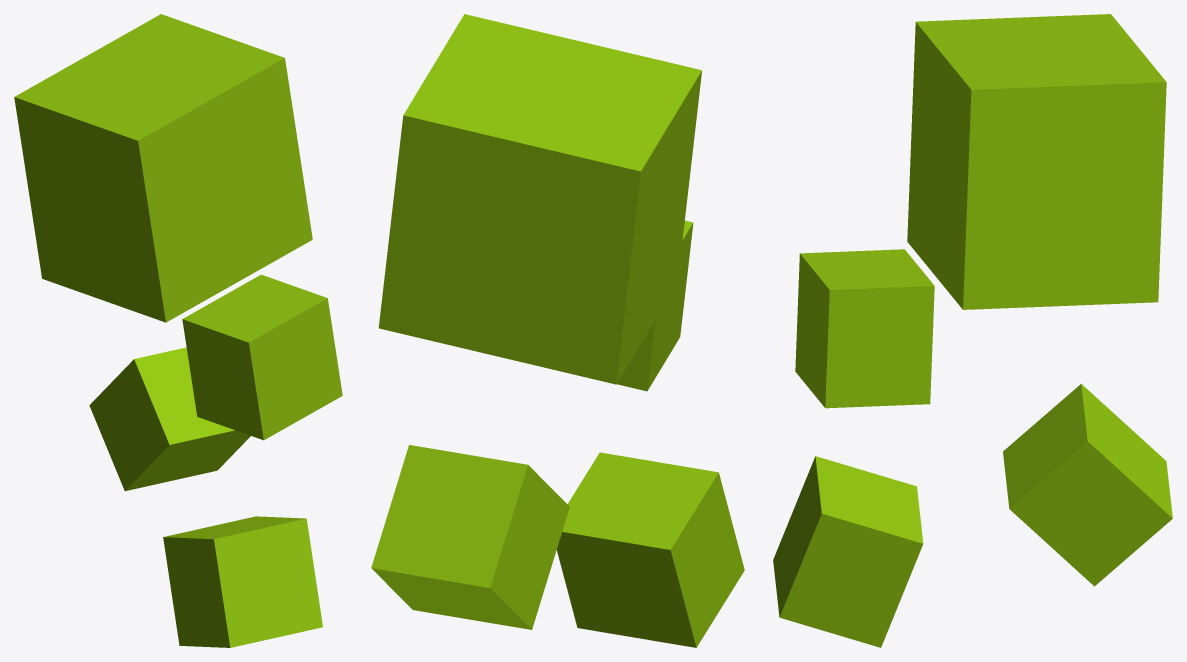
The model's file is tree_big_2_boxy.fbx.
3 renders of one model, left to right at view 1: azimuth 30°, elevation 25°; view 2: azimuth 150°, elevation 25°; view 3: azimuth 270°, elevation 25°, orthographic. The views are drawn at different scales.
Visible parts, largest first — view 1: tree_big_2_boxy; view 2: tree_big_2_boxy; view 3: tree_big_2_boxy.
Boxes of the visible parts, box(x1,y1,x2,y2) form: tree_big_2_boxy: box(14, 14, 342, 647); tree_big_2_boxy: box(371, 14, 744, 647); tree_big_2_boxy: box(773, 14, 1172, 647).
Size of the model in its own units: 140 by 301 by 186.
